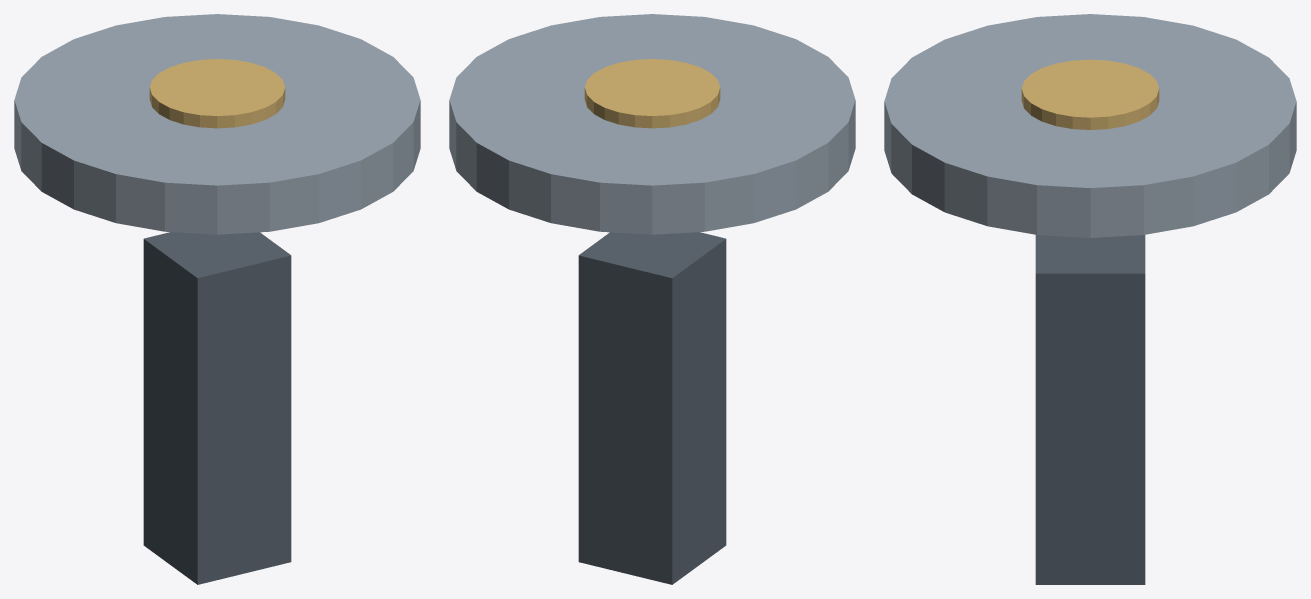
The model's file is plasma_cutter.glb.
3 views of the same model, side by side, from view 1: azimuth 30°, elevation 25°; view 2: azimuth 150°, elevation 25°; view 3: azimuth 270°, elevation 25° (orthographic).
Visible parts, largest first — view 1: geometry_1, geometry_0, geometry_2; view 2: geometry_1, geometry_0, geometry_2; view 3: geometry_1, geometry_0, geometry_2.
Part boxes in pixels (bbox=[...]): geometry_1: bbox=[14, 14, 420, 234]; geometry_0: bbox=[143, 232, 291, 584]; geometry_2: bbox=[149, 59, 285, 128]; geometry_1: bbox=[449, 14, 855, 234]; geometry_0: bbox=[578, 232, 726, 584]; geometry_2: bbox=[584, 59, 720, 128]; geometry_1: bbox=[884, 14, 1296, 237]; geometry_0: bbox=[1035, 235, 1145, 584]; geometry_2: bbox=[1021, 59, 1159, 129].
Size of the model in its own units: 0.6 by 0.76 by 0.6.
